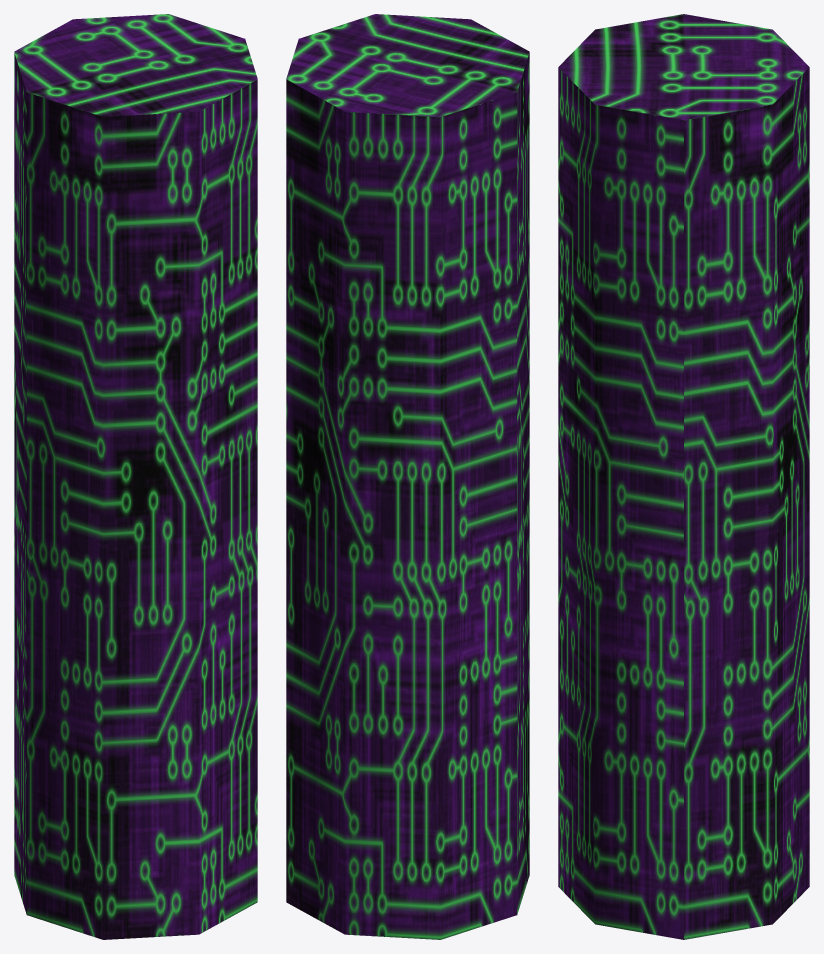
File: Alt_2_City_Pillar.dae
3 views of the same model, side by side, from view 1: azimuth 30°, elevation 25°; view 2: azimuth 150°, elevation 25°; view 3: azimuth 270°, elevation 25° (orthographic).
Parts seen in each view (by area): view 1: pCylinder1; view 2: pCylinder1; view 3: pCylinder1.
Boxes of the visible parts, x1,y1,x2,y2 form: pCylinder1: (14,14,257,939); pCylinder1: (286,14,529,939); pCylinder1: (558,14,809,939).
Bounding box in the file's own units: 20 × 72 × 20.
